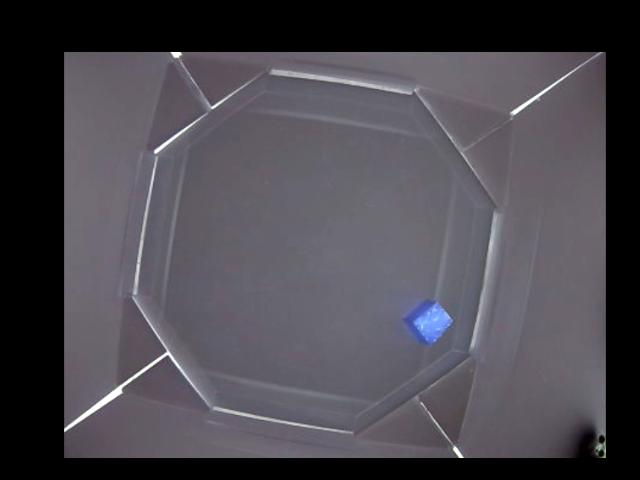Potato: (405, 296, 453, 344)
